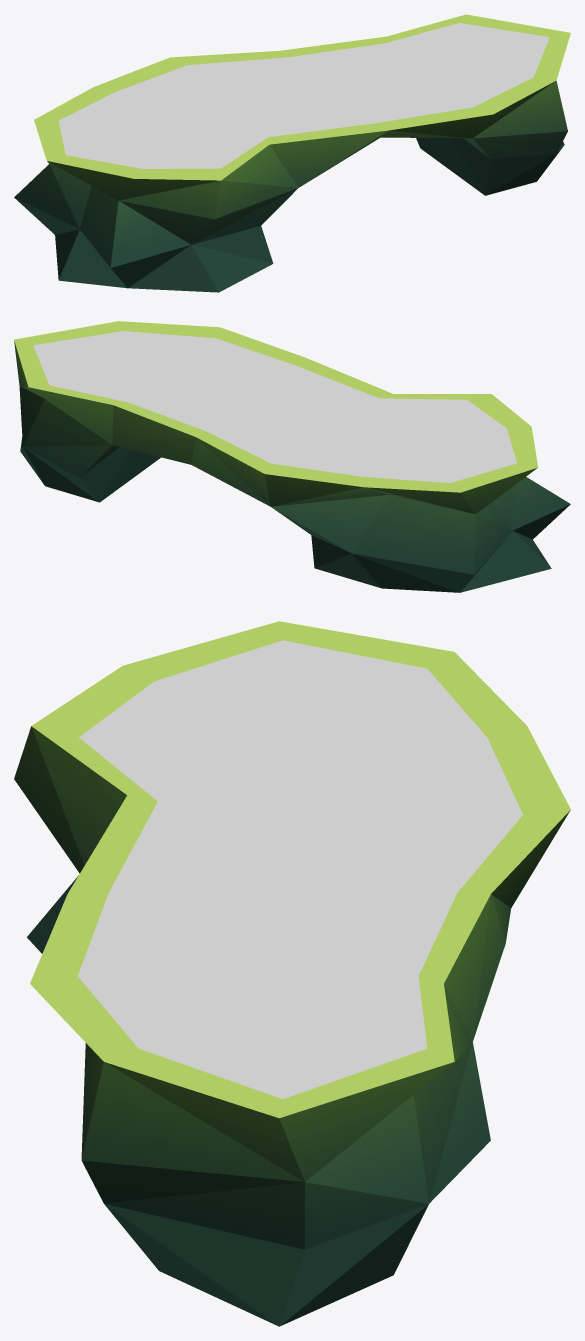
File: MOD_PlatformV2_laagV2.fbx
The picture shows the model from 3 angles, top to bottom: view 1: azimuth 30°, elevation 25°; view 2: azimuth 150°, elevation 25°; view 3: azimuth 270°, elevation 25°; orthographic projection. The views are drawn at different scales.
Visible parts, largest first — view 1: MOD_PlatformV2_laag; view 2: MOD_PlatformV2_laag; view 3: MOD_PlatformV2_laag.
Part boxes in pixels (<box>): MOD_PlatformV2_laag: <box>14,14,570,292</box>; MOD_PlatformV2_laag: <box>14,321,570,592</box>; MOD_PlatformV2_laag: <box>14,621,570,1326</box>.
Size of the model in its own units: 4.75 by 0.9536 by 2.25.
3 materials, 1 textured.
